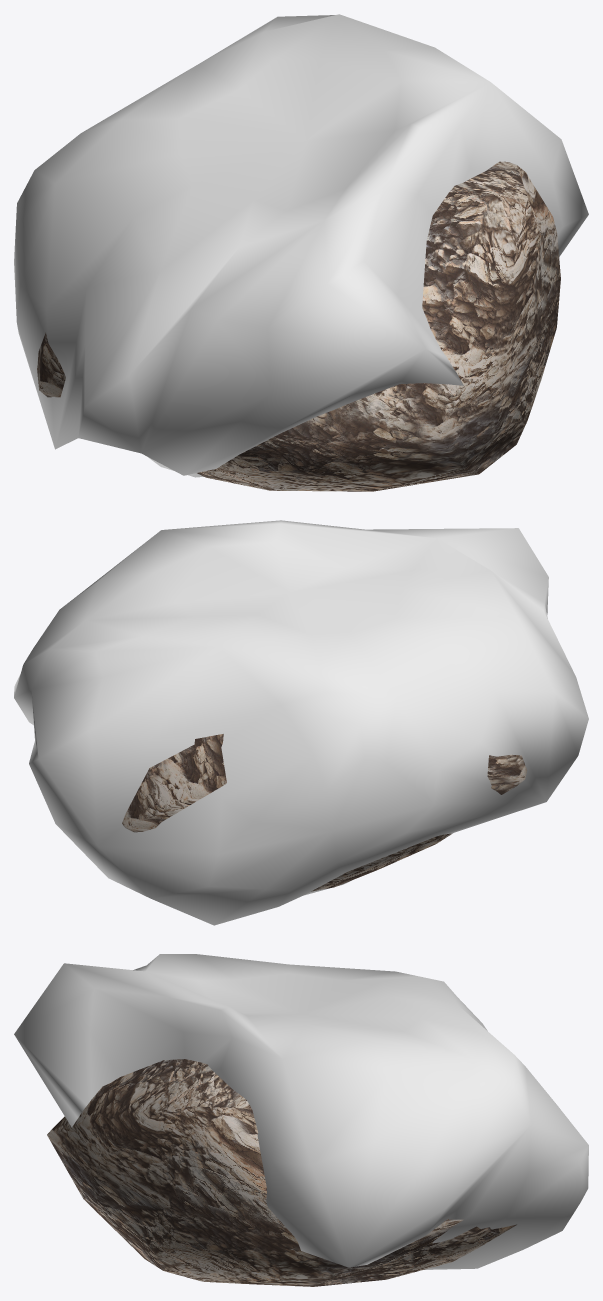
File: aquariumCoralSmall.FBX
The picture shows the model from 3 angles, top to bottom: view 1: azimuth 30°, elevation 25°; view 2: azimuth 150°, elevation 25°; view 3: azimuth 270°, elevation 25°; orthographic projection. The views are drawn at different scales.
Visible parts, largest first — view 1: rockBox, rockBox001; view 2: rockBox, rockBox001; view 3: rockBox, rockBox001.
Part boxes in pixels (x1,y1,x2,y2): rockBox: (14,14,588,477); rockBox001: (37,161,560,491); rockBox: (14,520,588,925); rockBox001: (122,734,526,891); rockBox: (14,954,588,1269); rockBox001: (47,1059,517,1286).
Size of the model in its own units: 131 by 77.46 by 137.
